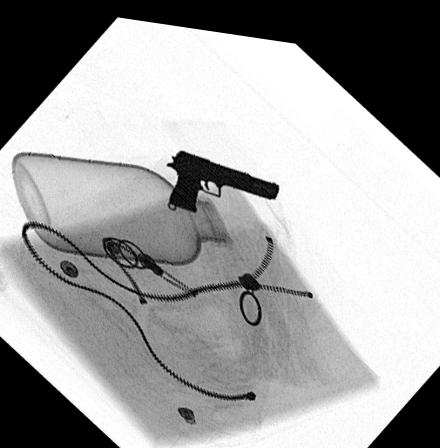Gun: (165, 143, 281, 207)
